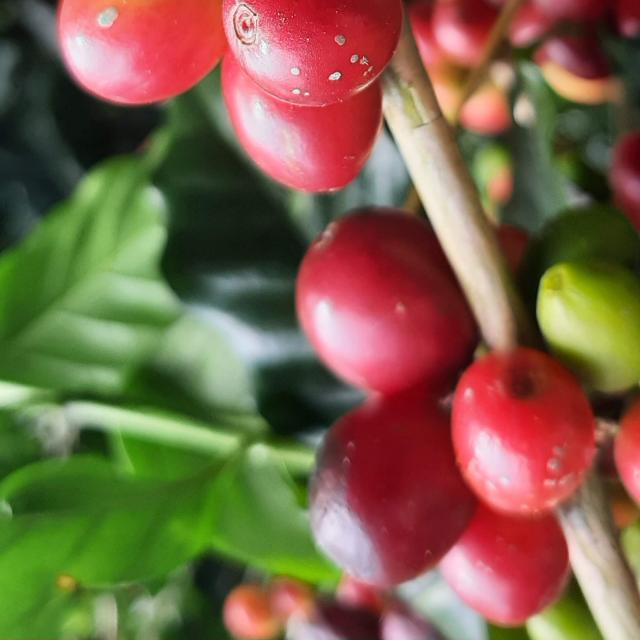green: (538, 261, 640, 393), (544, 204, 640, 269)
red: (296, 207, 478, 394), (310, 388, 477, 588), (452, 347, 597, 517), (222, 49, 383, 193), (223, 0, 403, 105), (441, 504, 571, 627)
yellow: (56, 0, 226, 104)
